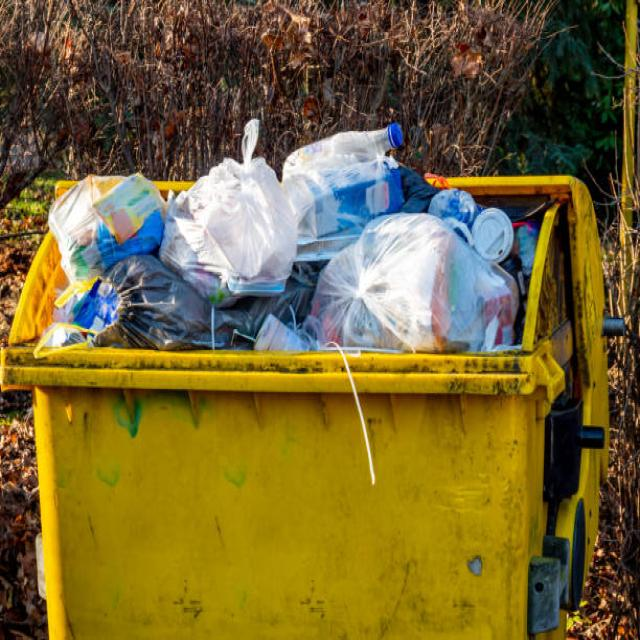trash: (64, 177, 512, 339)
